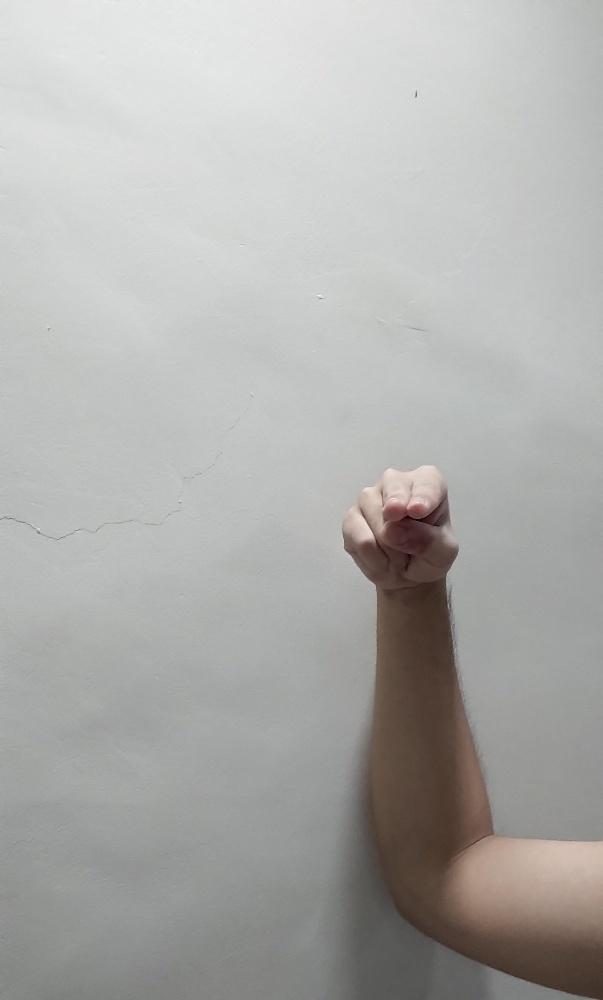n: (340, 462, 462, 592)
